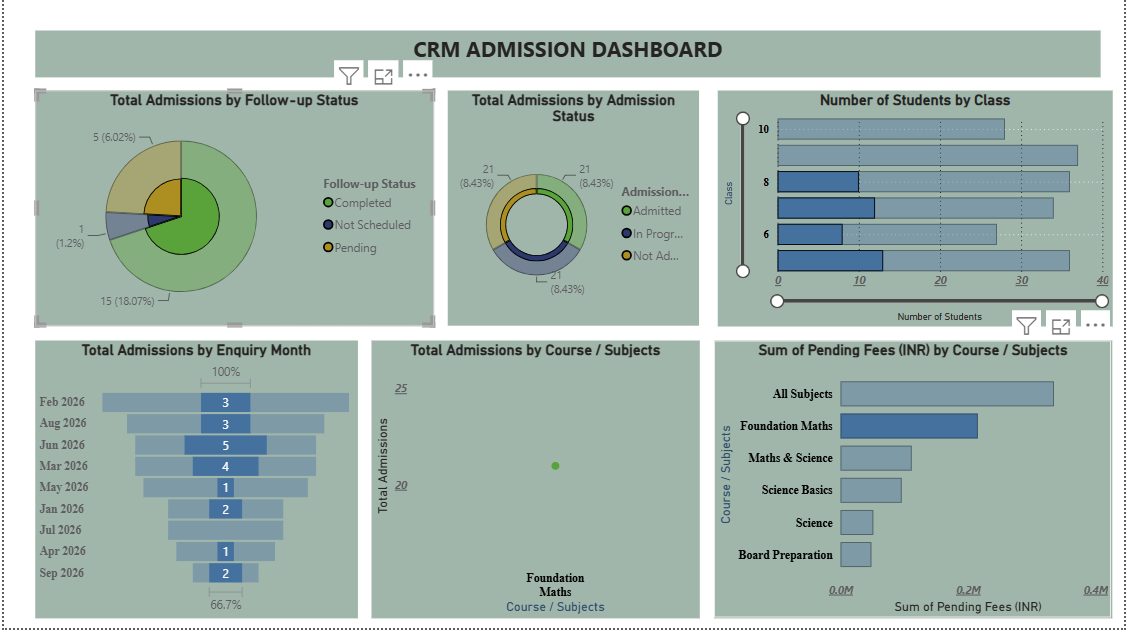

The dashboard page shown, as its layout file describes it:
{"tool":"powerbi","page":{"name":"Admission","canvas":[1280,720],"ordinal":1},"visuals":[{"type":"clusteredBarChart","fields":{"Category":["EnquiryData.Class"],"Y":["EnquiryData.Number of Students"]},"box":[815,106.2,451.2,268.8],"z":0},{"type":"barChart","fields":{"Category":["EnquiryData.Course / Subjects"],"Y":["Sum(EnquiryData.Pending Fees (INR))"]},"box":[811.2,391.2,455,317.5],"z":1000},{"type":"pieChart","fields":{"Y":["EnquiryData.Total Admissions"],"Series":["EnquiryData.Follow-up Status"]},"box":[36.2,106.2,455,268.8],"z":2000},{"type":"donutChart","fields":{"Category":["EnquiryData.Admission Status"],"Y":["EnquiryData.Total Admissions"]},"box":[507.5,106.2,287.5,268.8],"z":3000},{"type":"textbox","box":[36.2,37.5,1217.5,53.8],"z":4000},{"type":"areaChart","fields":{"Category":["EnquiryData.Course / Subjects"],"Y":["EnquiryData.Total Admissions"]},"box":[420,391.2,375,317.5],"z":5000},{"type":"funnel","fields":{"Y":["EnquiryData.Total Admissions"],"Category":["EnquiryData.Enquiry Month"]},"box":[36.2,391.2,368.8,317.5],"z":6000}]}

Visuals, with their boxes in screenshot pixels (x1, y1, x2, y2), scaled from the page's 1280x720 canvas onto the 1126x630 screenshot:
clusteredBarChart - EnquiryData.Class x EnquiryData.Number of Students: (x1=717, y1=93, x2=1114, y2=328)
barChart - EnquiryData.Course / Subjects x Sum(EnquiryData.Pending Fees (INR)): (x1=714, y1=342, x2=1114, y2=620)
pieChart - EnquiryData.Total Admissions x EnquiryData.Follow-up Status: (x1=32, y1=93, x2=432, y2=328)
donutChart - EnquiryData.Admission Status x EnquiryData.Total Admissions: (x1=446, y1=93, x2=699, y2=328)
textbox: (x1=32, y1=33, x2=1103, y2=80)
areaChart - EnquiryData.Course / Subjects x EnquiryData.Total Admissions: (x1=369, y1=342, x2=699, y2=620)
funnel - EnquiryData.Total Admissions x EnquiryData.Enquiry Month: (x1=32, y1=342, x2=356, y2=620)
